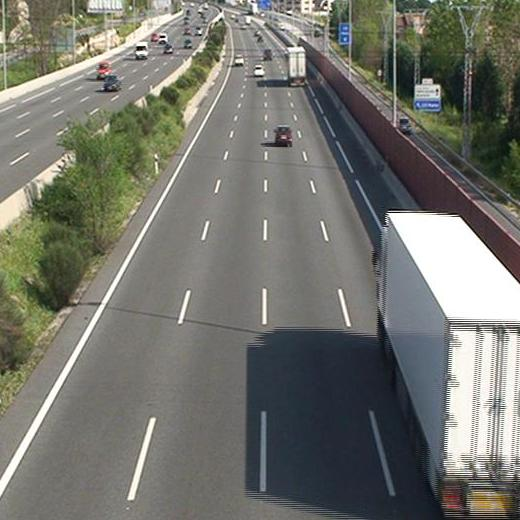car: (276, 126, 292, 143), (253, 66, 265, 76), (263, 48, 273, 58), (234, 56, 243, 65)
truck: (378, 213, 520, 518), (288, 48, 306, 85)
